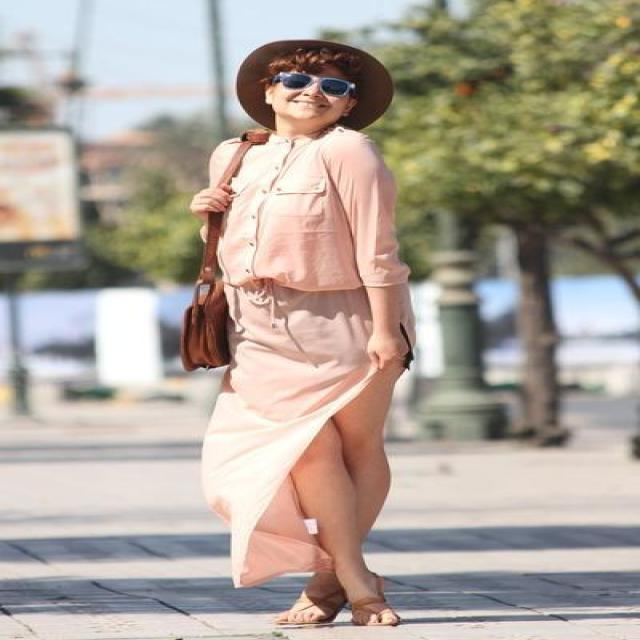bag: (174, 195, 248, 370)
hat: (237, 41, 392, 130)
shirt: (210, 127, 411, 293)
shoe: (300, 588, 402, 626)
skirt: (202, 268, 430, 586)
sunglass: (288, 67, 354, 94)
